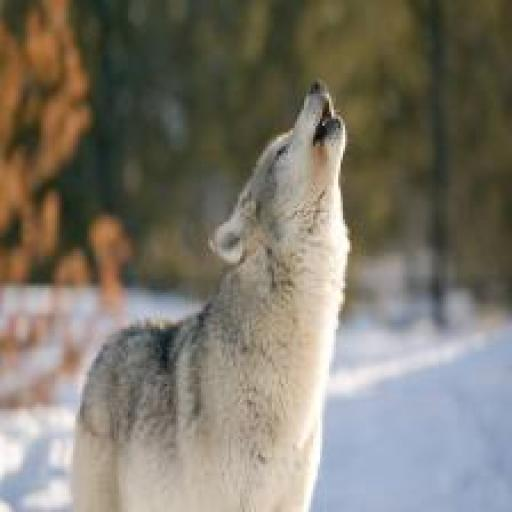wolf: (37, 32, 440, 512)
